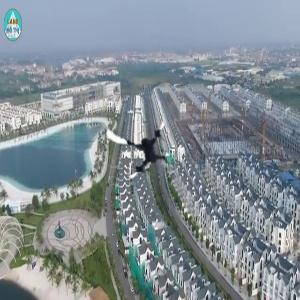drone: (103, 108, 178, 183)
